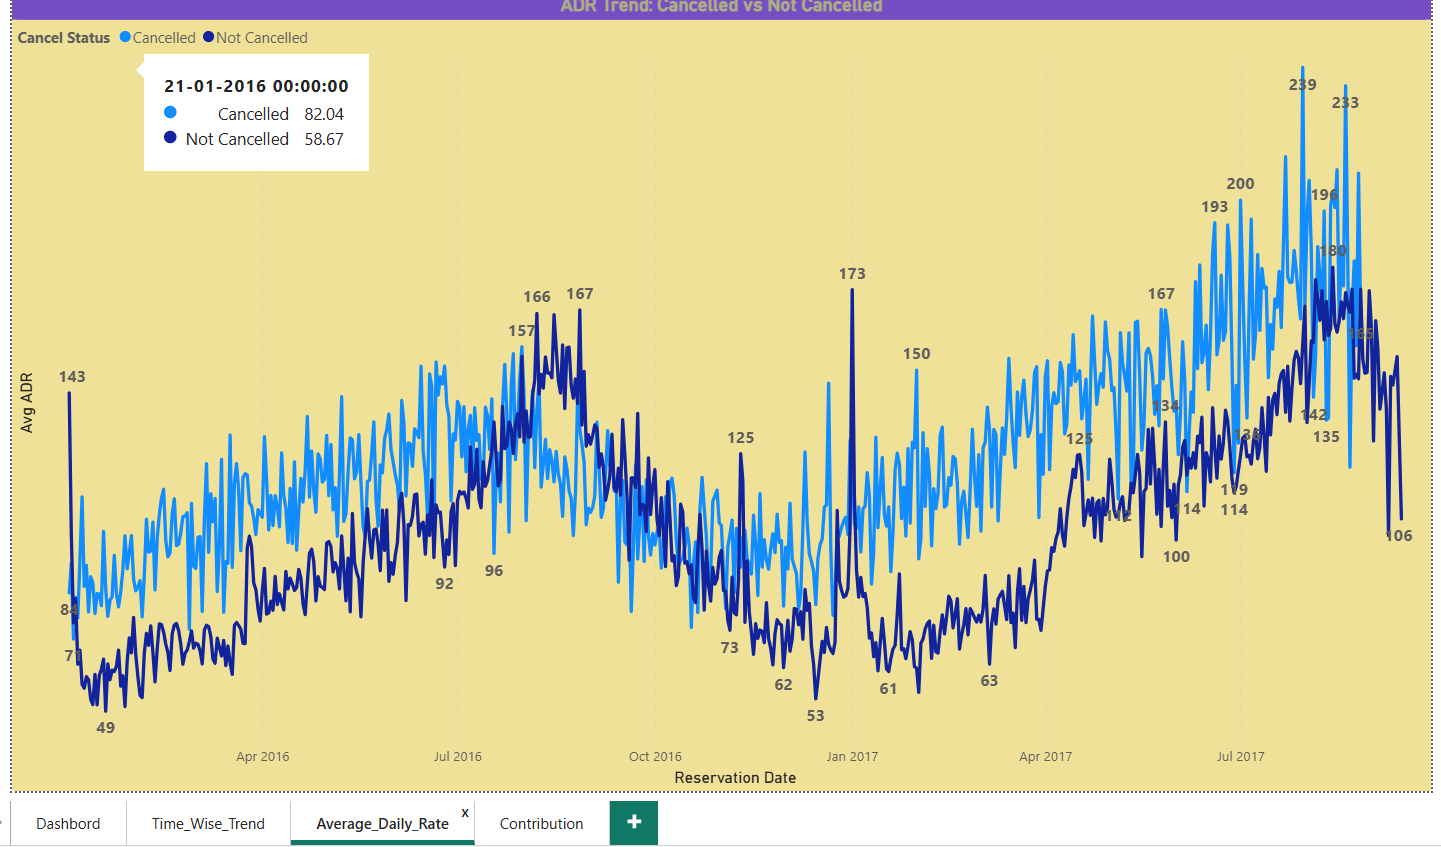

This screenshot's page, from the dashboard's own definition file:
{"tool":"powerbi","page":{"name":"Average_Daily_Rate","canvas":[1280,720],"ordinal":2},"visuals":[{"type":"lineChart","title":"ADR Trend: Cancelled vs Not Cancelled","fields":{"Y":["final_Hotel_Bokings_Analysis.Avg ADR"],"Series":["final_Hotel_Bokings_Analysis.Cancel Status"],"Category":["final_Hotel_Bokings_Analysis.Reservation Date"]},"box":[0,0,1280,720.3],"z":0}]}

Visuals, with their boxes on the page's 1280x720 design canvas (x1, y1, x2, y2). These are canvas units, not pixel positions in the 1441x847 screenshot, which may show the page scaled, cropped or inside an application window:
"ADR Trend: Cancelled vs Not Cancelled" lineChart: left=0, top=0, right=1280, bottom=720
